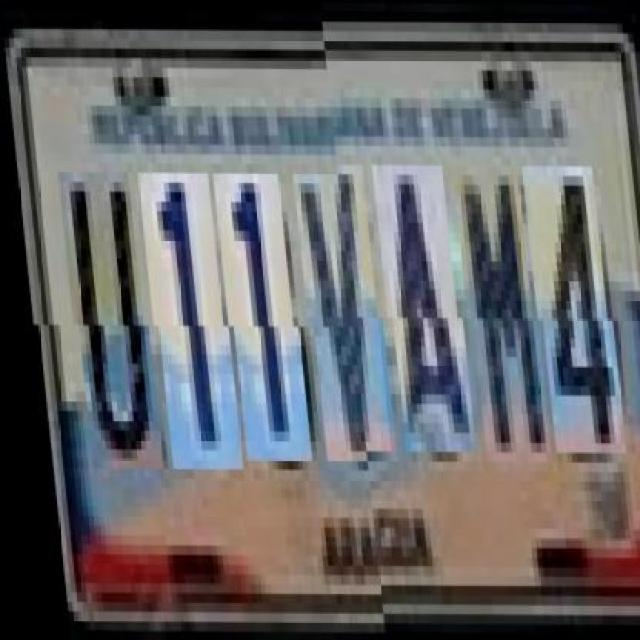1: (139, 173, 233, 469), (214, 172, 301, 460)
4: (524, 174, 618, 461)
a: (375, 174, 467, 461)
m: (454, 175, 543, 470)
u: (59, 173, 153, 469)
v: (294, 173, 388, 461)
